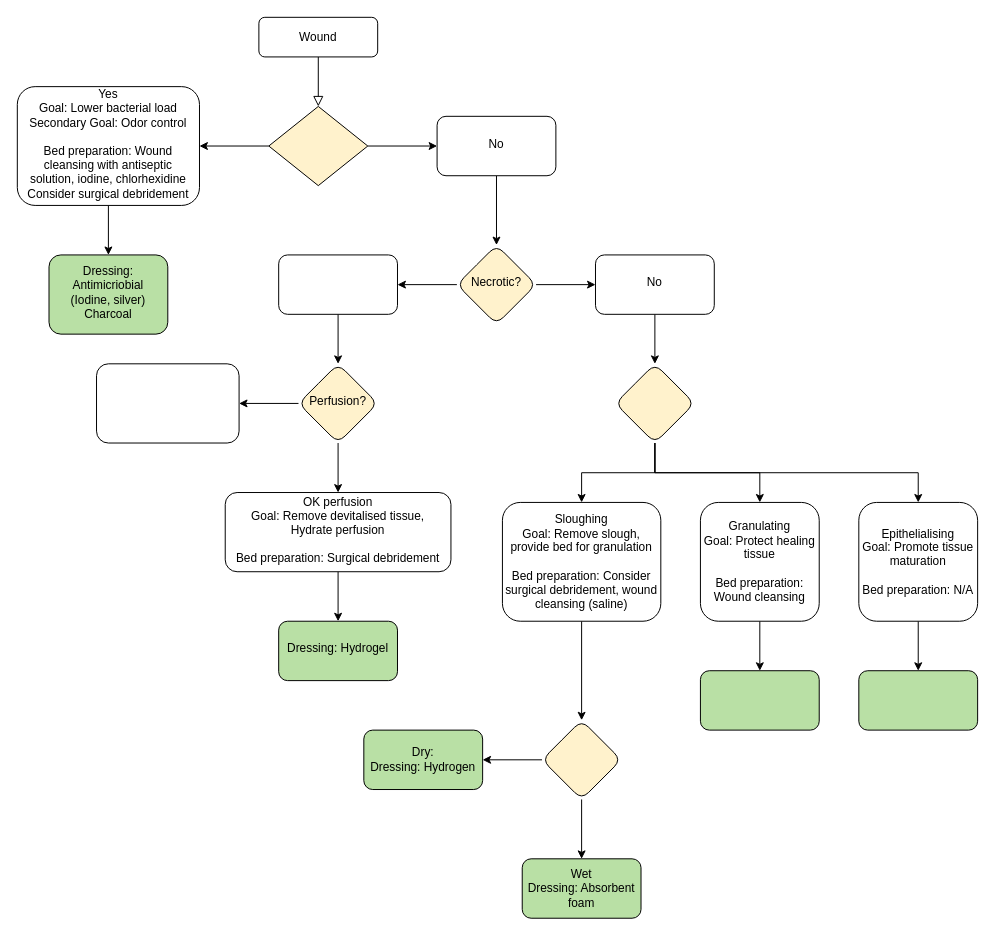
Some shapes in this 995 by 936 pixel diagram are drawn without their labels. The shapes that lost their labels are listed below. From the top down, each one's centre as x and y in pixels, then its label:
the point at 318,145: Infected?
the point at 337,284: Yes 1. Assess arterial perfusion
the point at 167,403: Poor perfusion 1. Revascularise Goal: Keep dry, no debridement
the point at 654,403: Type of wound
the point at 759,700: Dressing: Low absorbant dressing (Silicone)
the point at 918,700: Dressing: Hydrocolloid
the point at 581,759: Moisture level of wound
